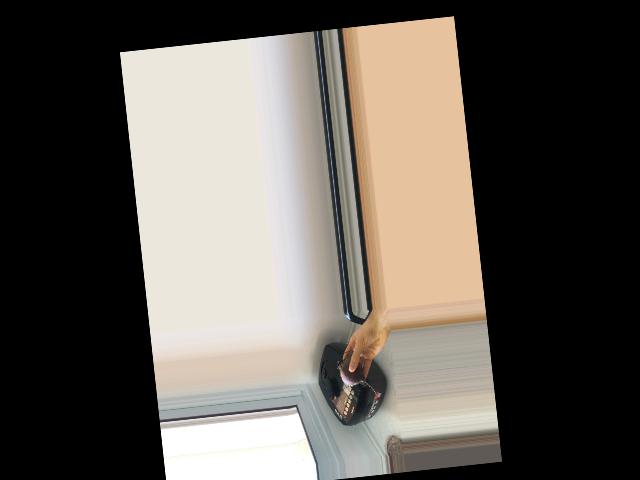beet: (336, 349, 376, 397)
